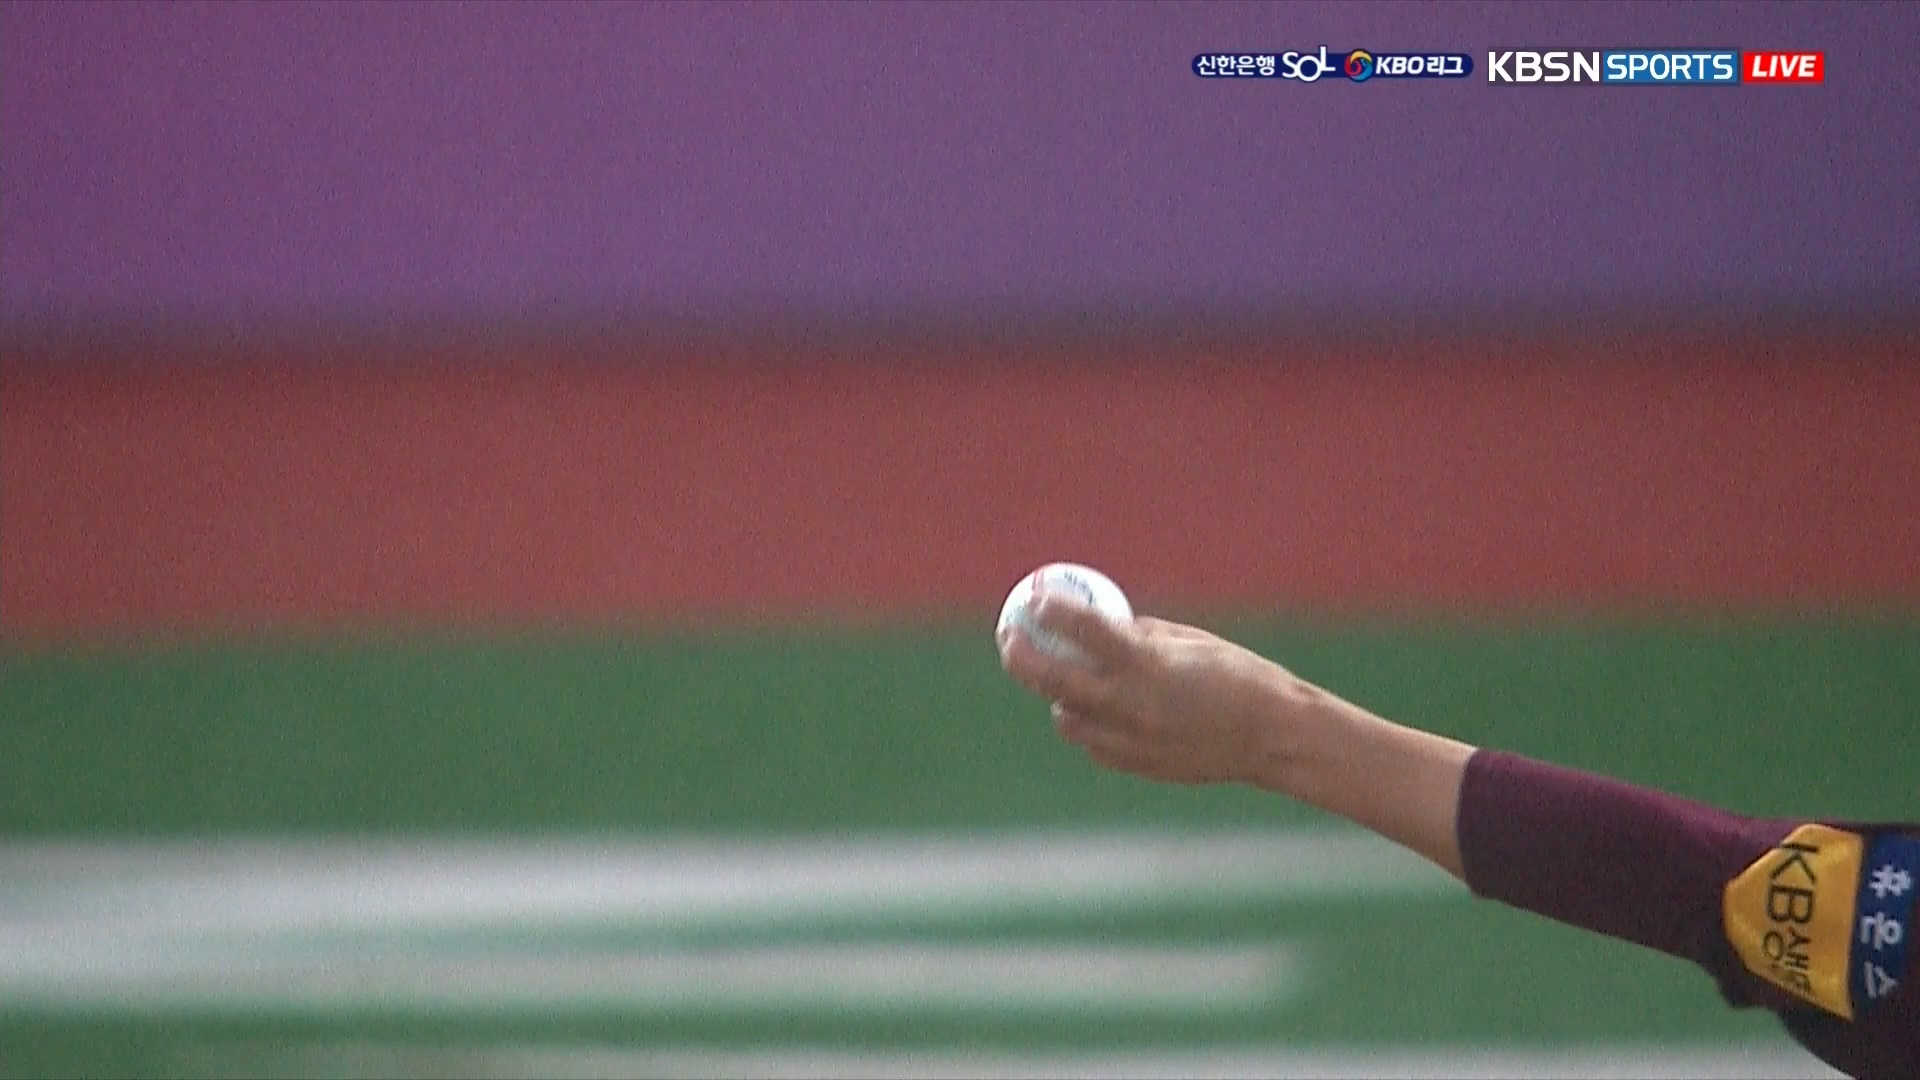zoomin_hand: (986, 549, 1745, 1022)
